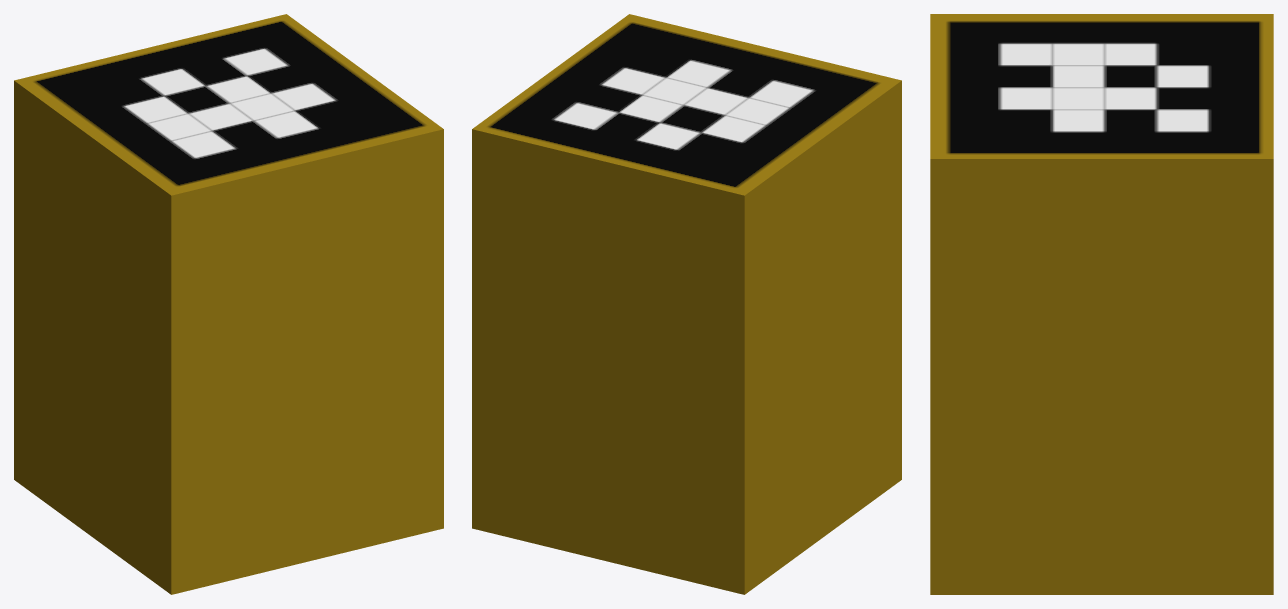
The picture shows the model from 3 angles, left to right: view 1: azimuth 30°, elevation 25°; view 2: azimuth 150°, elevation 25°; view 3: azimuth 270°, elevation 25°; orthographic projection. The views are drawn at different scales.
Parts seen in each view (by area): view 1: Cube; view 2: Cube; view 3: Cube.
Part boxes in pixels (x1=…): Cube: x1=14, y1=14, x2=443, y2=594; Cube: x1=472, y1=14, x2=901, y2=594; Cube: x1=930, y1=14, x2=1273, y2=594.
Bounding box in the file's own units: 0.05 × 0.05 × 0.07.
